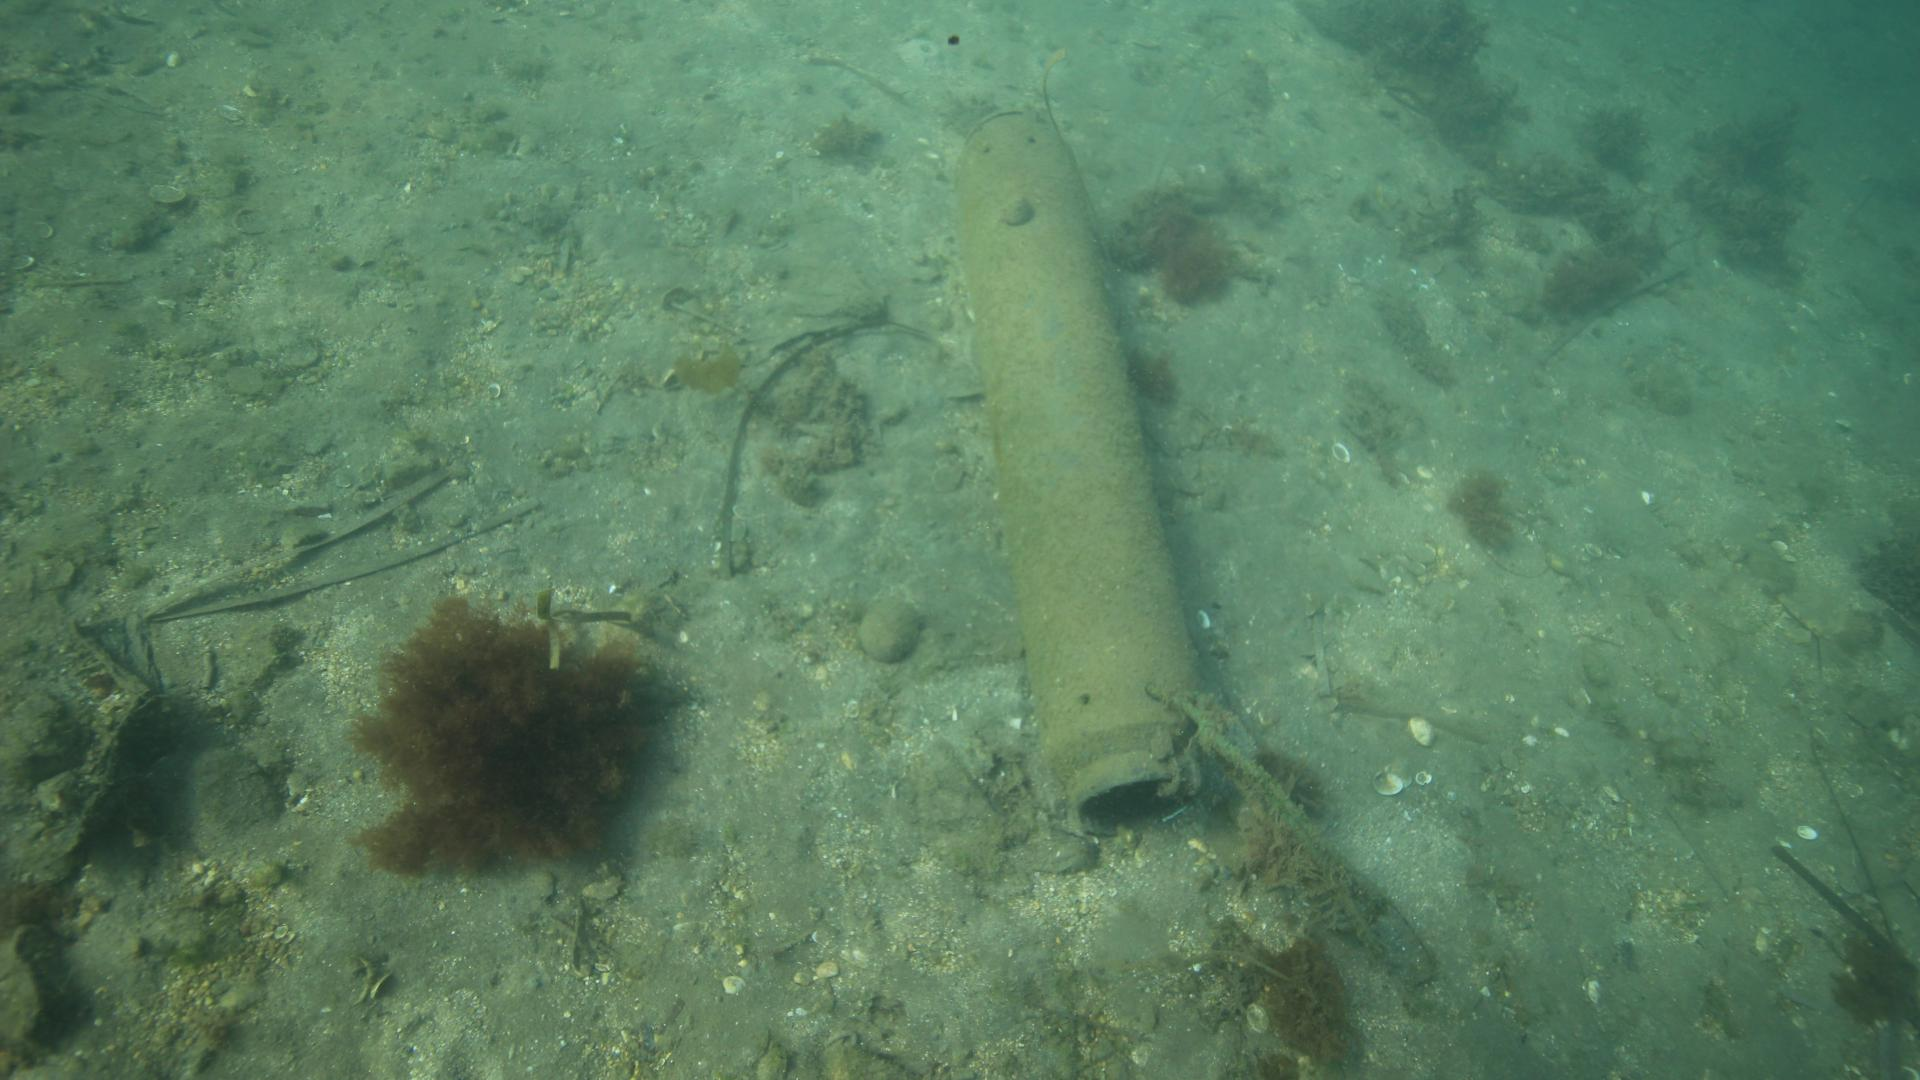bundle of ropes: (1150, 688, 1382, 949)
eel fish trap: (957, 108, 1207, 833)
